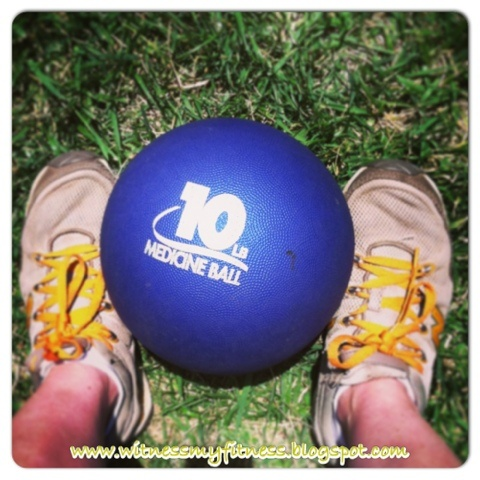blue ball: (99, 117, 354, 378)
